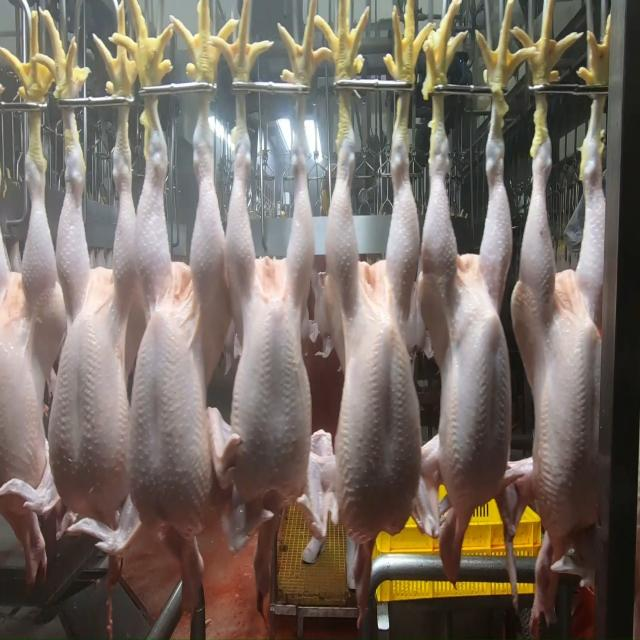chicken: (322, 132, 424, 550), (126, 112, 223, 548), (512, 131, 607, 538), (221, 138, 317, 510), (49, 152, 145, 520), (423, 117, 514, 503), (0, 166, 60, 540)
